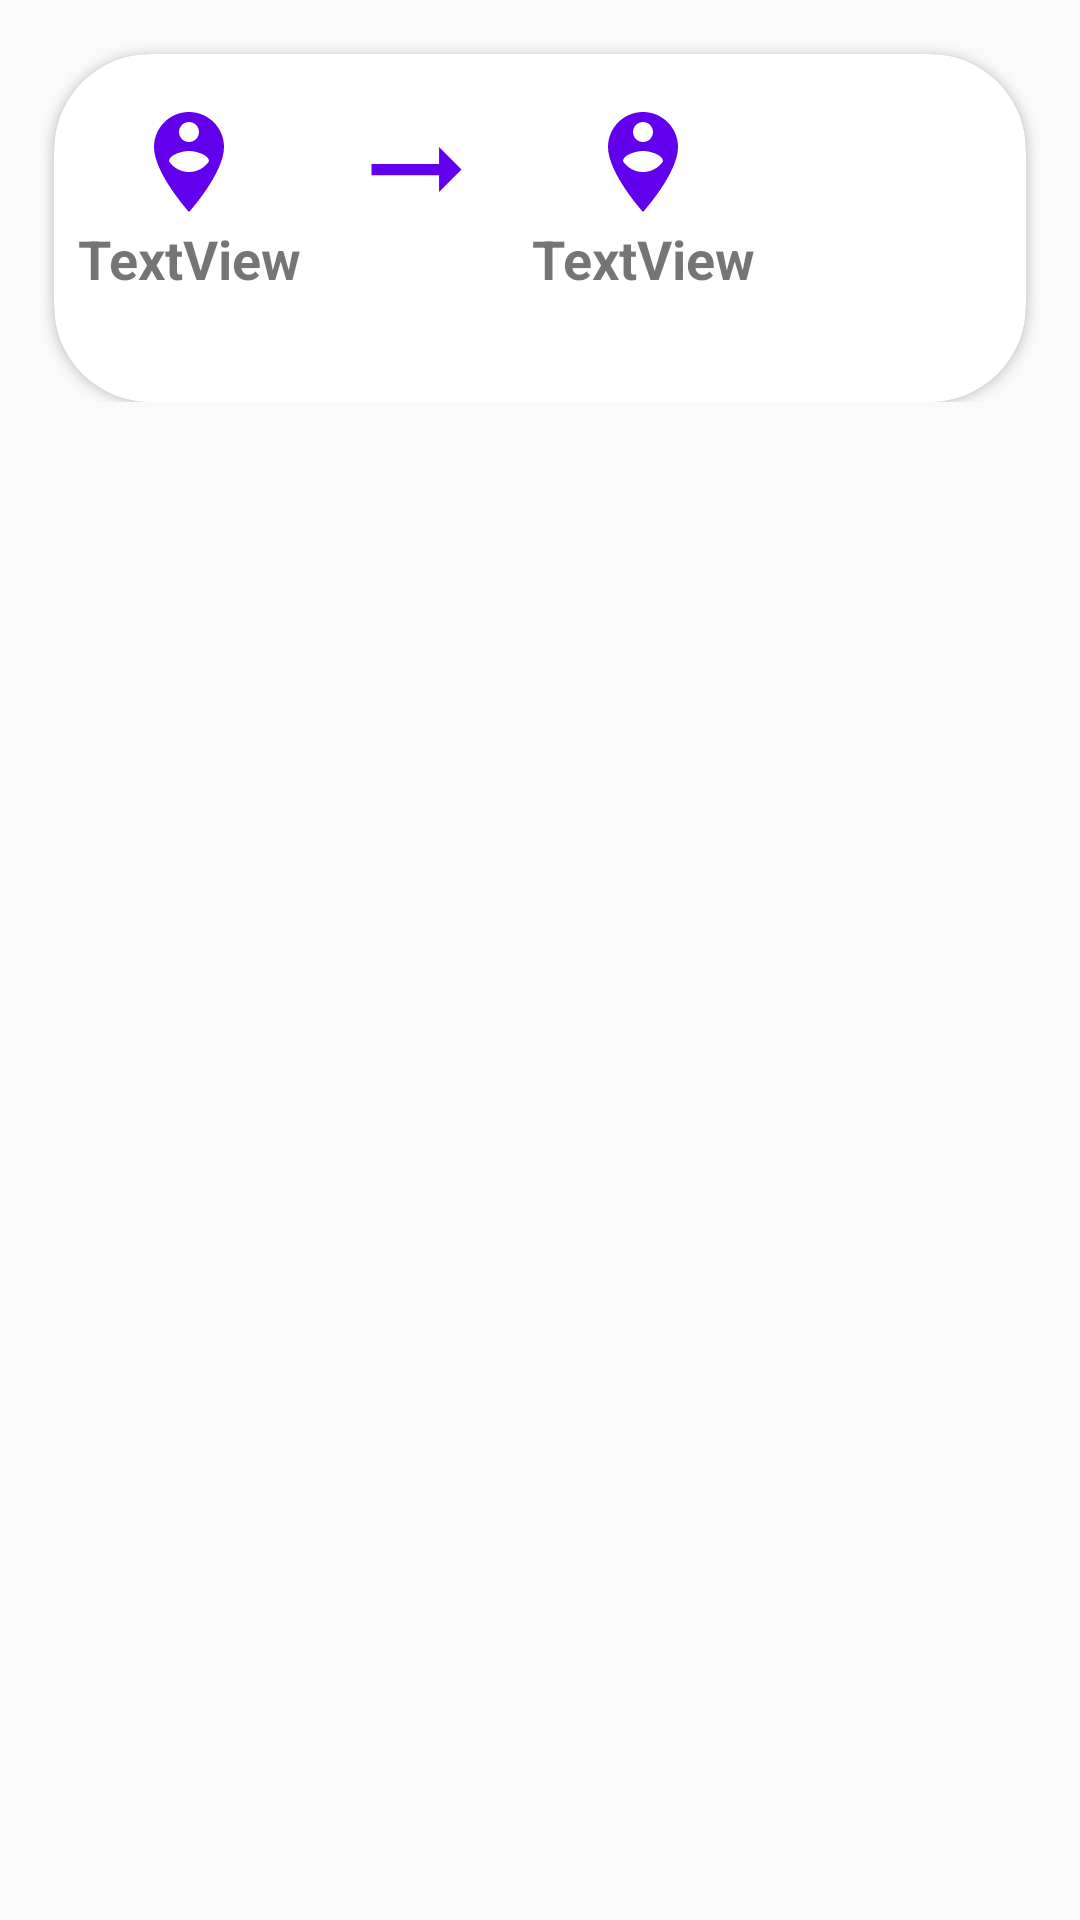

Icon click points for this 1080 x 1920 phone screenshot, format (x=x, y=y):
arrow right: (x=416, y=169)
